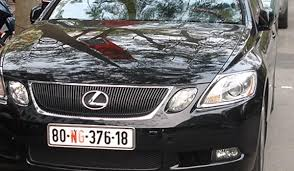plate: (45, 122, 137, 152)
